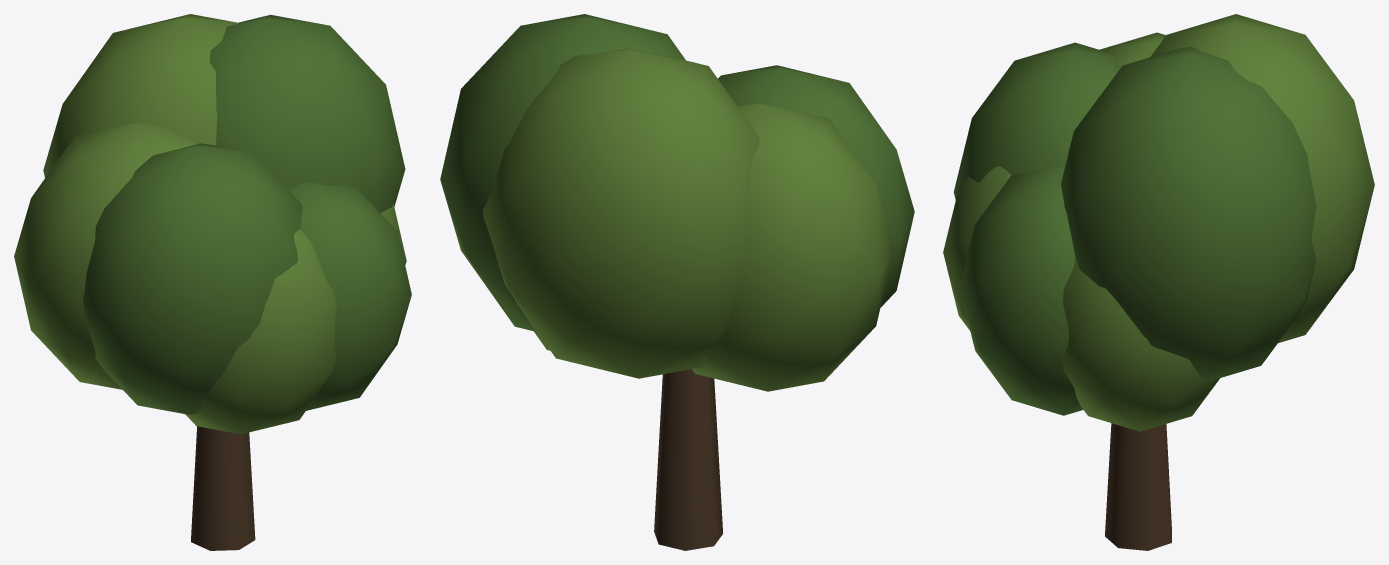
3 renders of one model, left to right at view 1: azimuth 30°, elevation 25°; view 2: azimuth 150°, elevation 25°; view 3: azimuth 270°, elevation 25°, orthographic. The views are drawn at different scales.
Visible parts, largest first — view 1: alpine-body; view 2: alpine-body; view 3: alpine-body.
Boxes of the visible parts, left/top/right/bottom form: alpine-body: left=14, top=14, right=411, bottom=550; alpine-body: left=440, top=14, right=914, bottom=550; alpine-body: left=943, top=14, right=1374, bottom=550.
Bounding box in the file's own units: 7.24 × 8.86 × 6.72.
